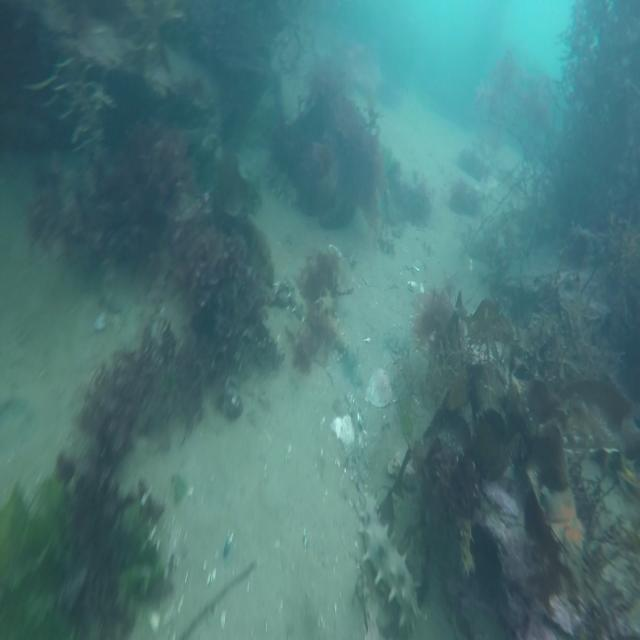holothurian: (351, 481, 421, 624), (278, 270, 349, 356)
starfish: (539, 484, 586, 580)
